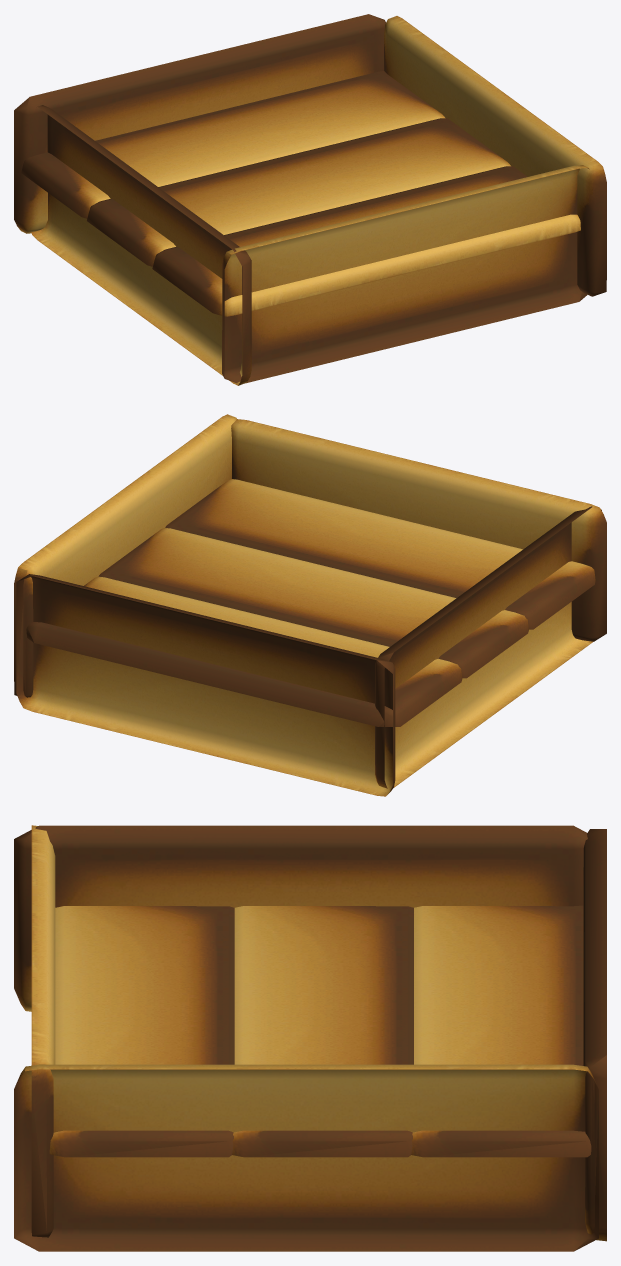
Rendered from CuddlePit.fbx.
3 views of the same model, one above another, from view 1: azimuth 30°, elevation 25°; view 2: azimuth 150°, elevation 25°; view 3: azimuth 270°, elevation 25° (orthographic). The views are drawn at different scales.
Parts seen in each view (by area): view 1: TinyLiving_LovelyLoveseat_Cushion.003; view 2: TinyLiving_LovelyLoveseat_Cushion.003; view 3: TinyLiving_LovelyLoveseat_Cushion.003.
Part boxes in pixels (bbox=[...]): TinyLiving_LovelyLoveseat_Cushion.003: bbox=[14, 14, 606, 385]; TinyLiving_LovelyLoveseat_Cushion.003: bbox=[14, 414, 606, 796]; TinyLiving_LovelyLoveseat_Cushion.003: bbox=[14, 825, 606, 1251].
Bounding box in the file's own units: 157 × 53.29 × 157.
Materials: 1 (1 with a texture image).
